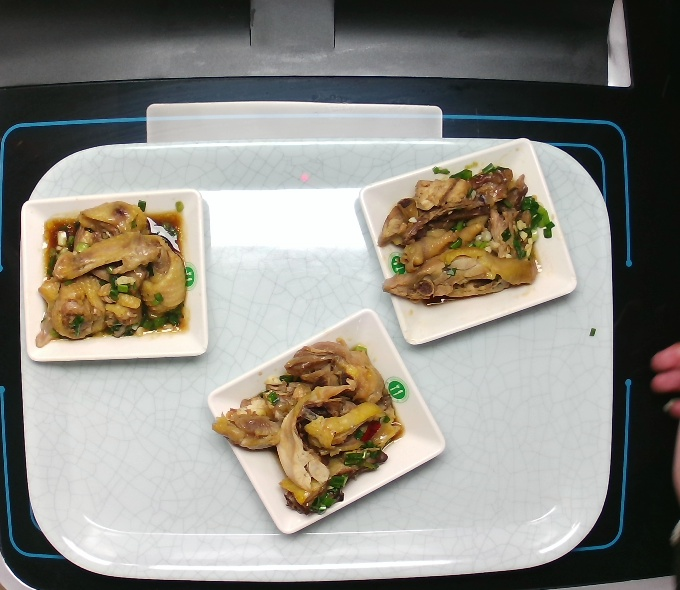wcq-CongYouJi: (212, 337, 402, 514), (377, 161, 552, 304), (38, 199, 186, 341)
